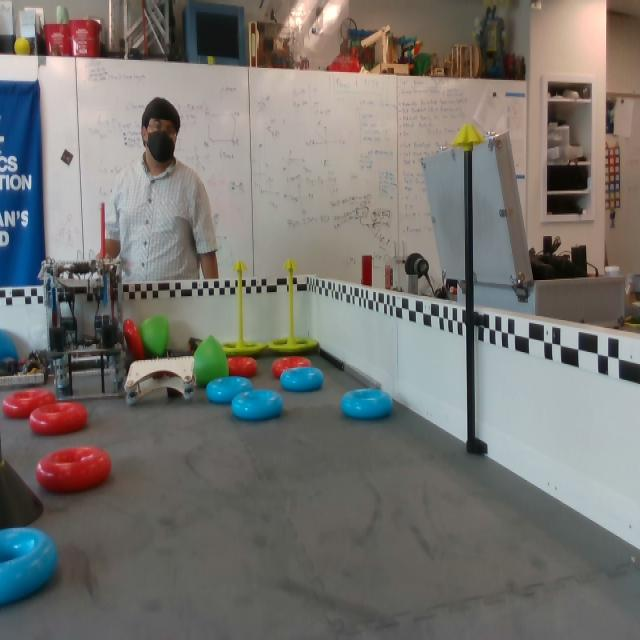Blue-Ring: (0, 525, 62, 608), (232, 390, 283, 423), (341, 389, 392, 419), (204, 378, 253, 403), (279, 367, 325, 393)
Mobile-Goal: (268, 255, 320, 354), (222, 260, 266, 355)
Red-Ring: (36, 446, 112, 493), (0, 391, 57, 422), (29, 403, 86, 434), (124, 318, 144, 362), (272, 357, 312, 379), (224, 355, 258, 380)
Yellow-Stake-Head: (451, 124, 486, 147), (233, 261, 248, 273), (284, 259, 298, 270)
